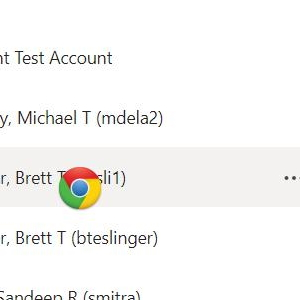chrome: (58, 166, 102, 210)
